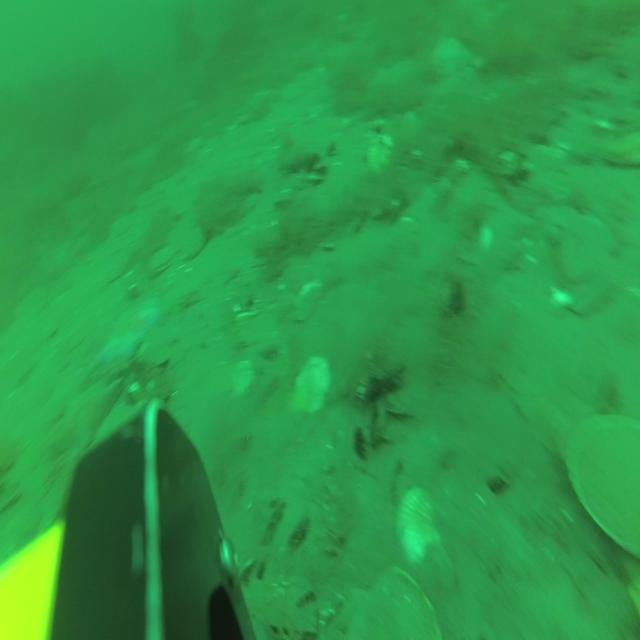scallop: (566, 410, 640, 566), (365, 567, 437, 640), (562, 215, 606, 277), (396, 489, 436, 554), (288, 356, 330, 416), (569, 278, 614, 312), (600, 129, 640, 164), (183, 217, 212, 260), (426, 542, 456, 581), (368, 134, 394, 177), (292, 282, 321, 320), (228, 359, 253, 398), (152, 248, 172, 274)
starfish: (52, 372, 120, 460), (85, 302, 166, 374), (429, 33, 476, 73)
